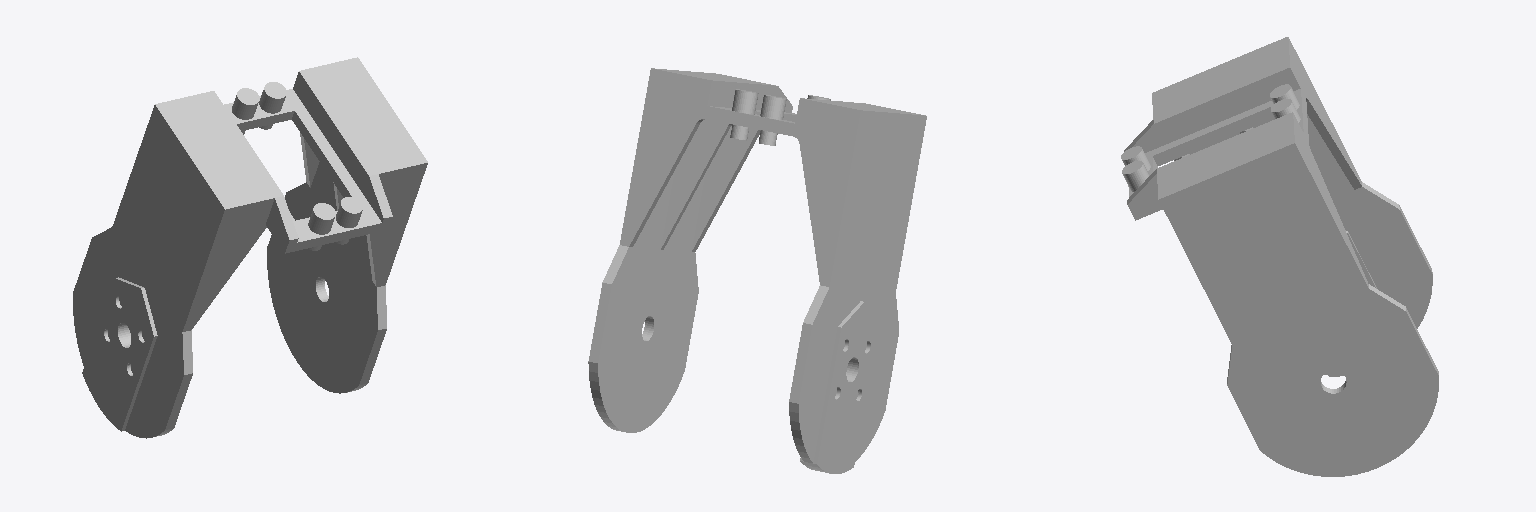
The model's file is upper.obj.
The picture shows the model from 3 angles: view 1: azimuth 30°, elevation 25°; view 2: azimuth 150°, elevation 25°; view 3: azimuth 270°, elevation 25°; orthographic projection.
Visible parts, largest first — view 1: Component7\Solid; view 2: Component7\Solid; view 3: Component7\Solid.
Part boxes in pixels (bbox=[...]): Component7\Solid: bbox=[73, 57, 427, 438]; Component7\Solid: bbox=[588, 68, 926, 473]; Component7\Solid: bbox=[1121, 37, 1438, 476].
Size of the model in its own units: 59.33 by 87.61 by 73.3.